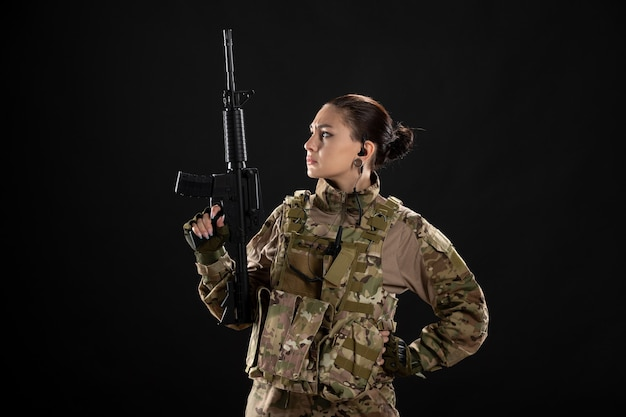gun: (168, 27, 261, 325)
